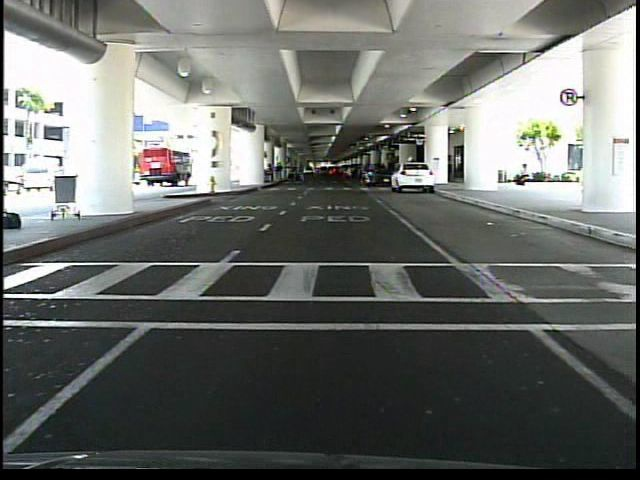person: (508, 159, 533, 191)
